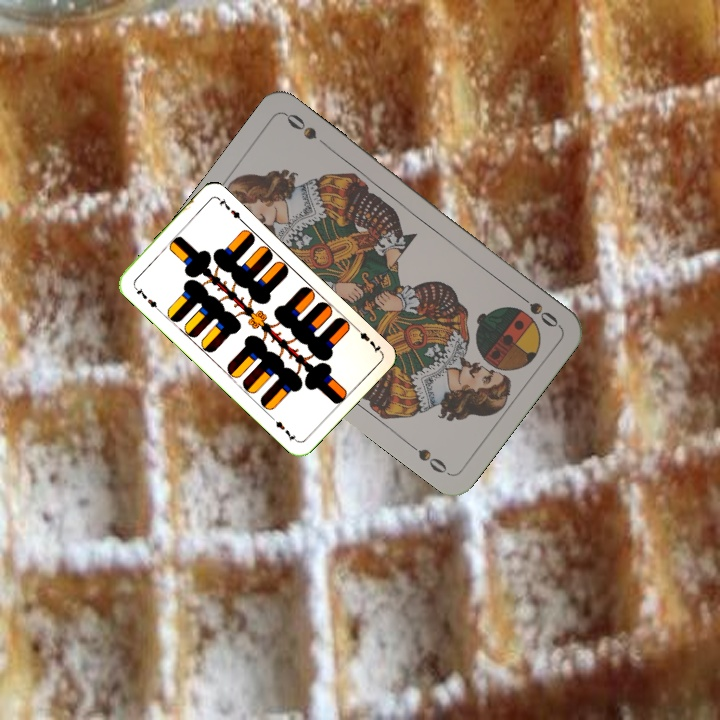E7: (130, 282, 163, 314), (351, 323, 383, 356)
SO: (511, 287, 561, 331)
